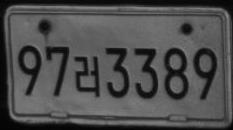3: (133, 47, 159, 99), (105, 46, 130, 99)
7: (44, 45, 70, 97)
8: (162, 46, 189, 100)
9: (193, 46, 218, 100), (17, 44, 42, 95)
러: (73, 55, 101, 97)
